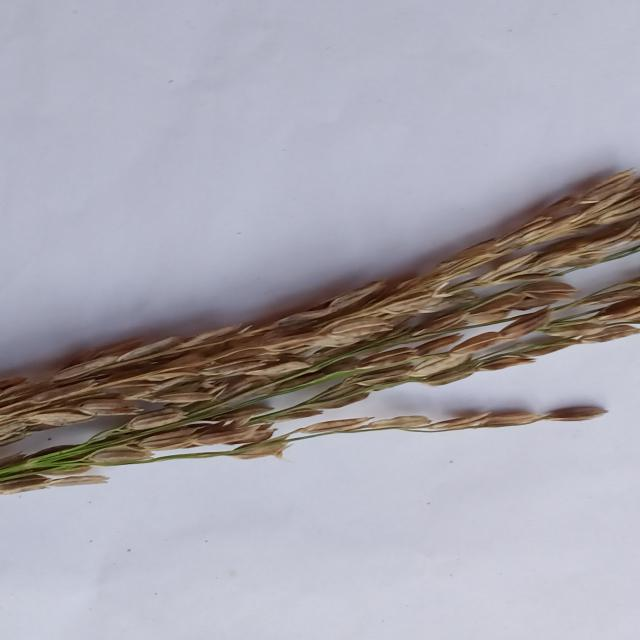Neck_Blast: (0, 161, 640, 441), (0, 402, 604, 489)
